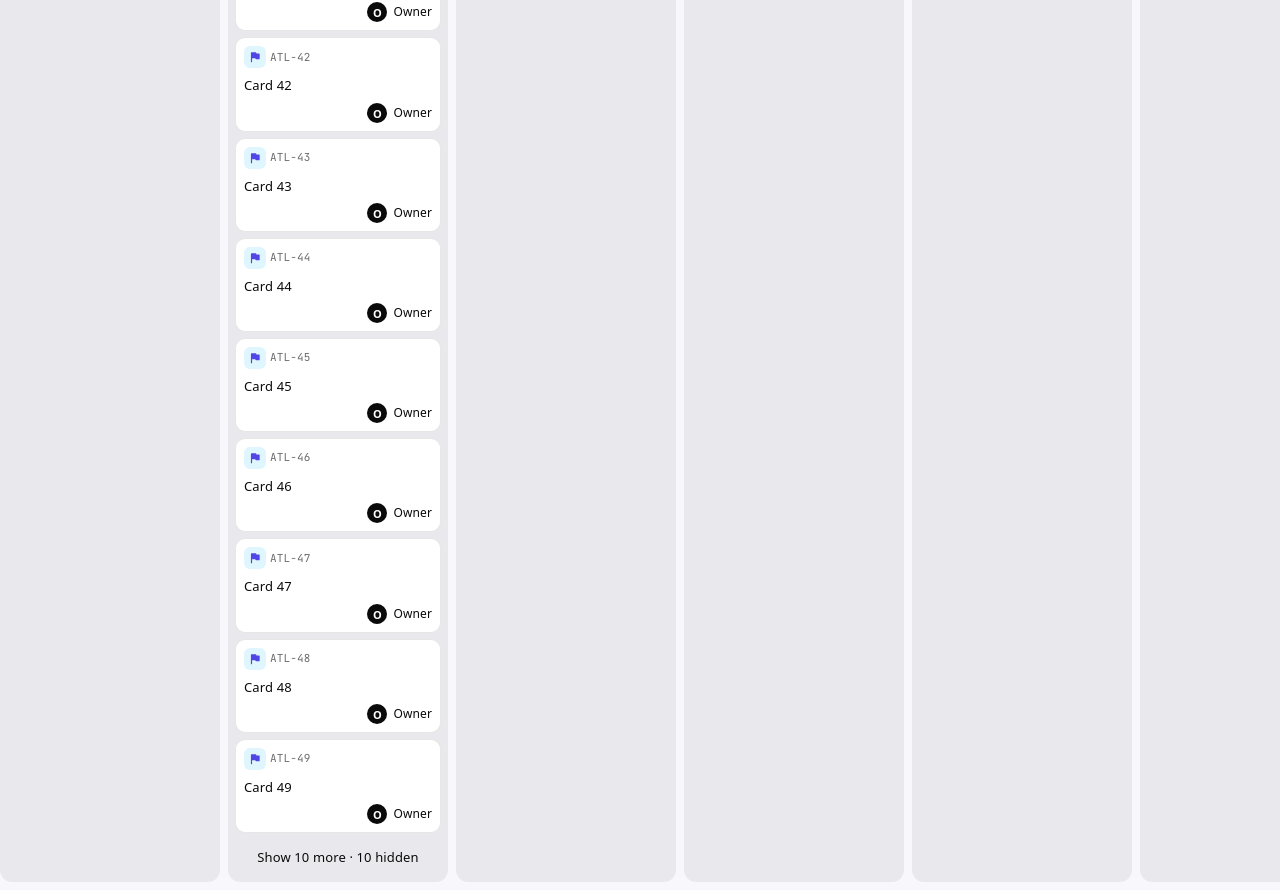
Test: WorkItemKanban — long columns › draws the first 50 cards of a column and the rest on request
(page scrolled)
Expected: the text "Card 49" is shown, [244,778,292,796]
Note: Text, not role: a name-filtered role query computes every card's accessible name.
Click the button "Show 10 more · 10 hidden": [338, 857] box [235,839,441,875]
(page scrolled)
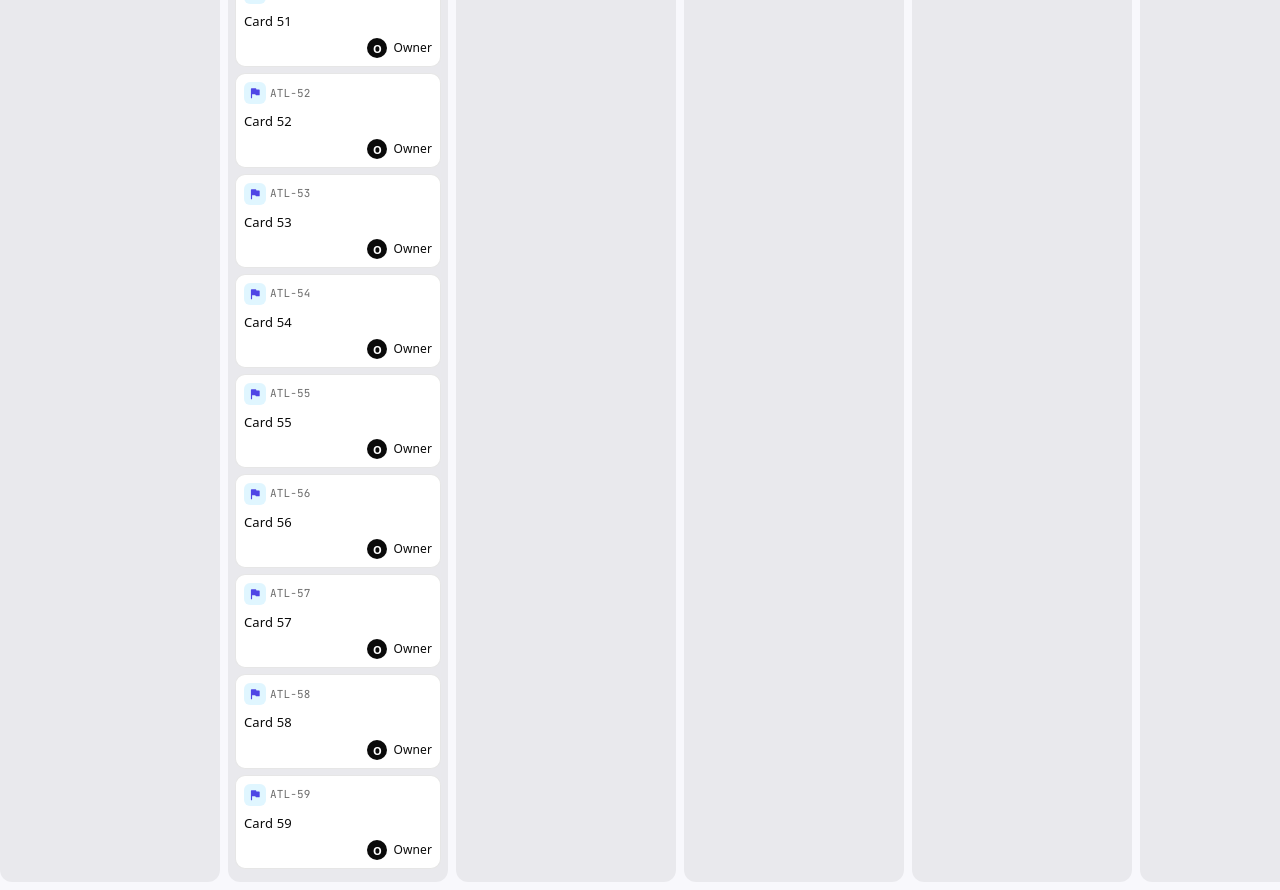
Expected: the text "Card 59" is shown, [244,814,292,832]
